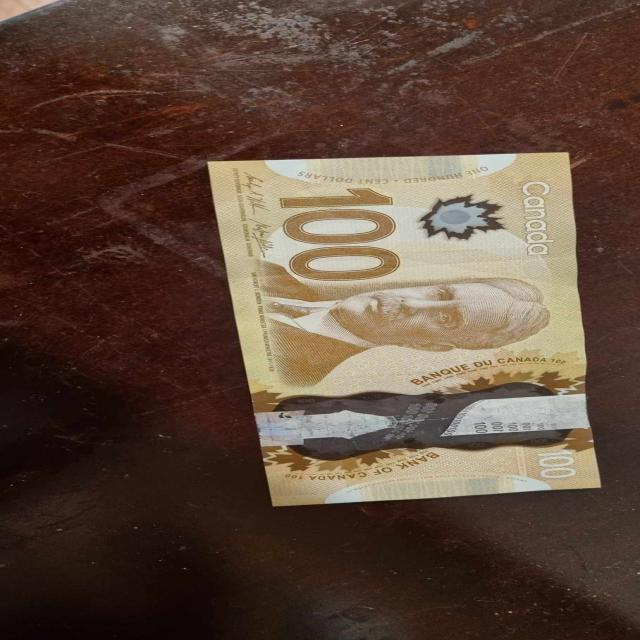100 cad: (214, 160, 616, 500)
